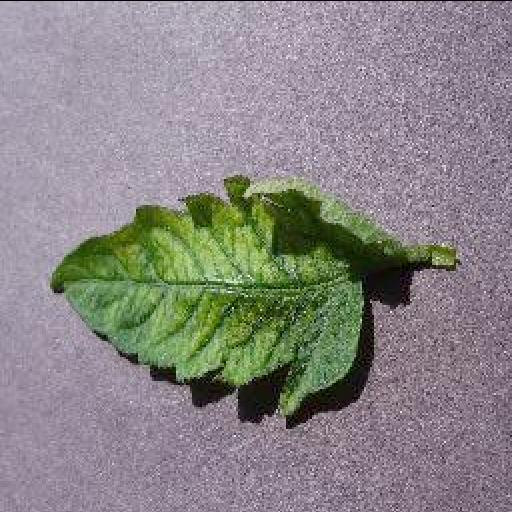disease_tomato: (50, 168, 360, 414)
